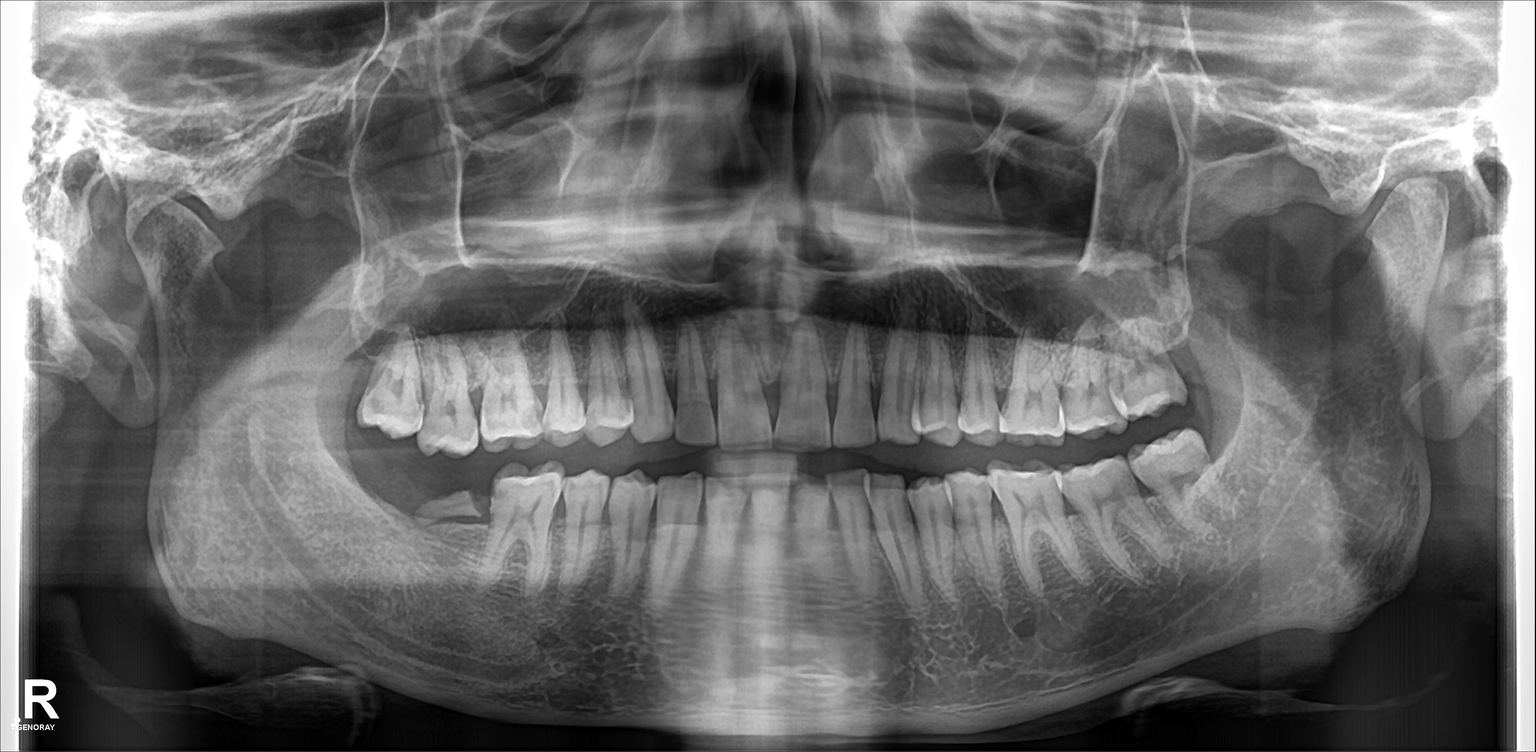Missing Tooth: (367, 450, 425, 566), (333, 331, 375, 448)
Retained Root: (432, 456, 490, 565)
